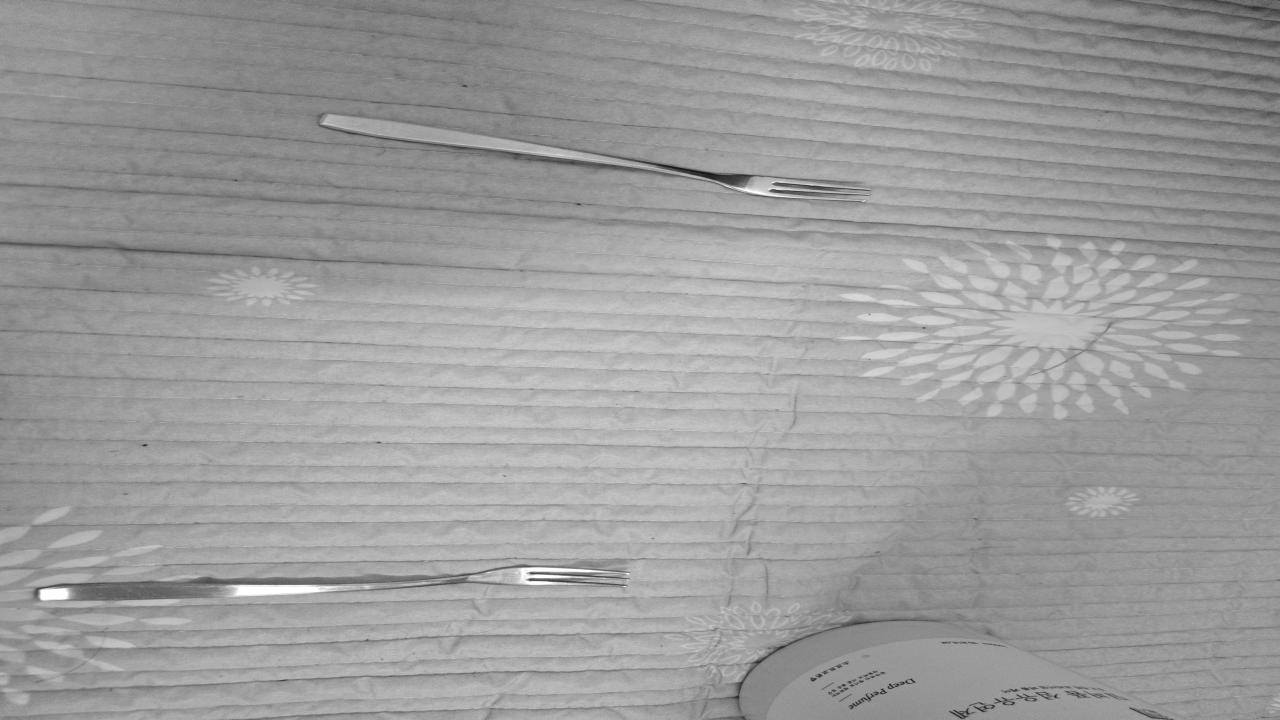fork: (322, 114, 861, 206), (41, 564, 629, 602)
